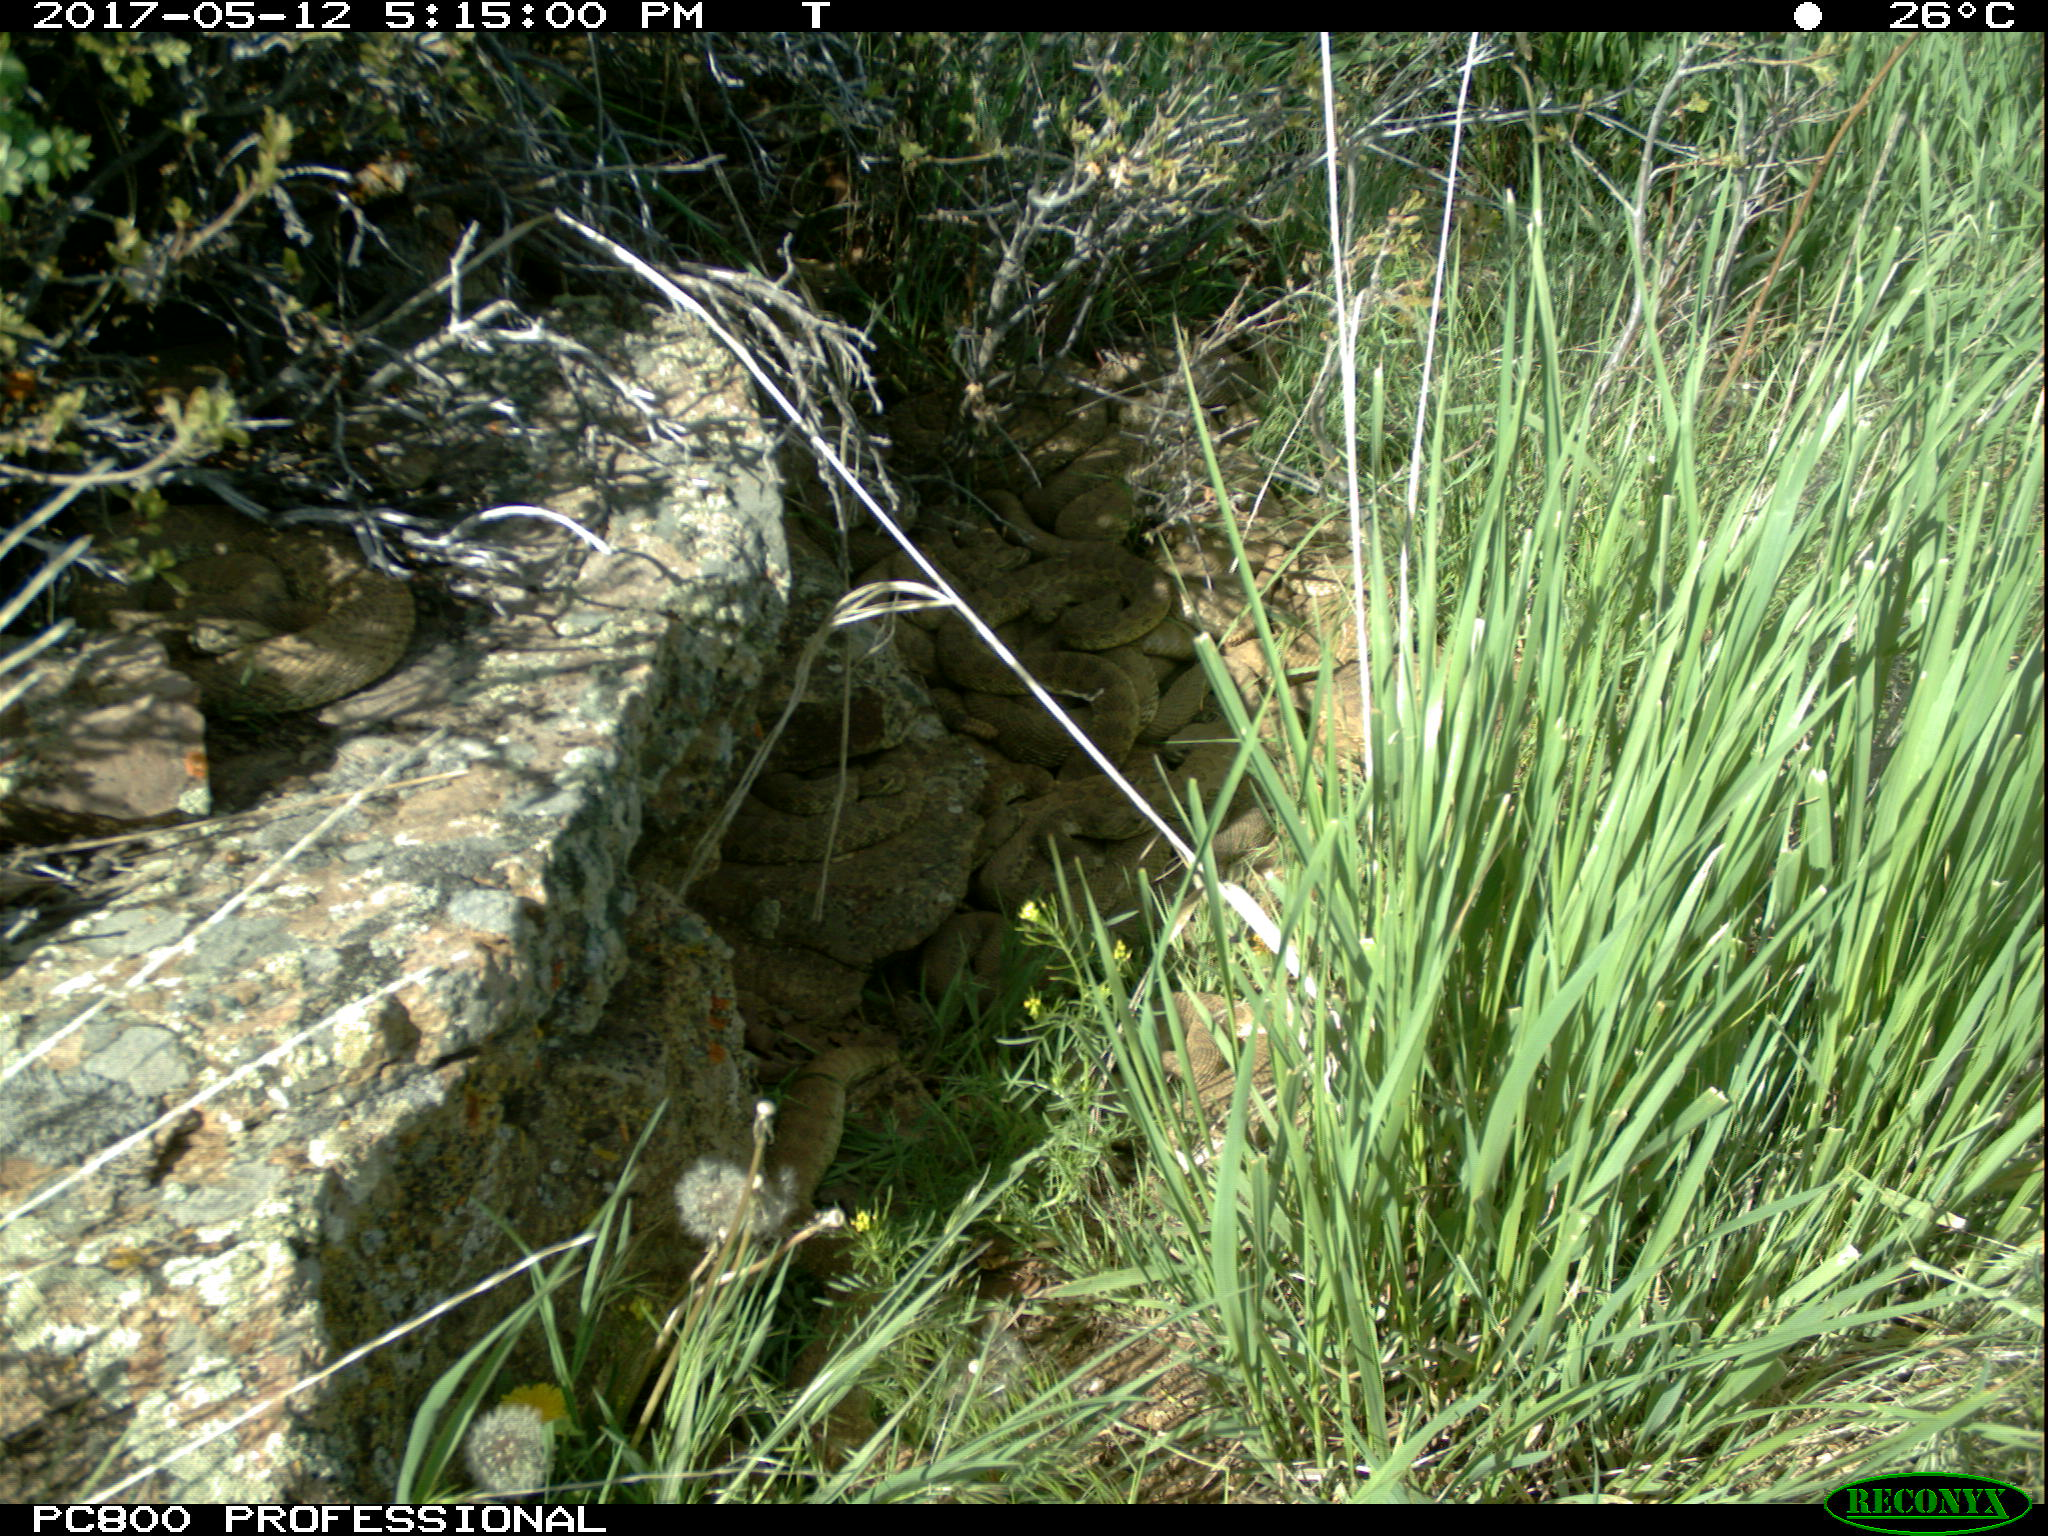snake: (145, 515, 421, 720), (943, 541, 1180, 771), (1177, 574, 1374, 716), (1000, 403, 1163, 568), (769, 1034, 895, 1239), (969, 786, 1163, 889), (745, 770, 932, 852), (1145, 989, 1279, 1104), (918, 905, 1027, 1004), (1288, 682, 1369, 791), (1200, 795, 1295, 886)
